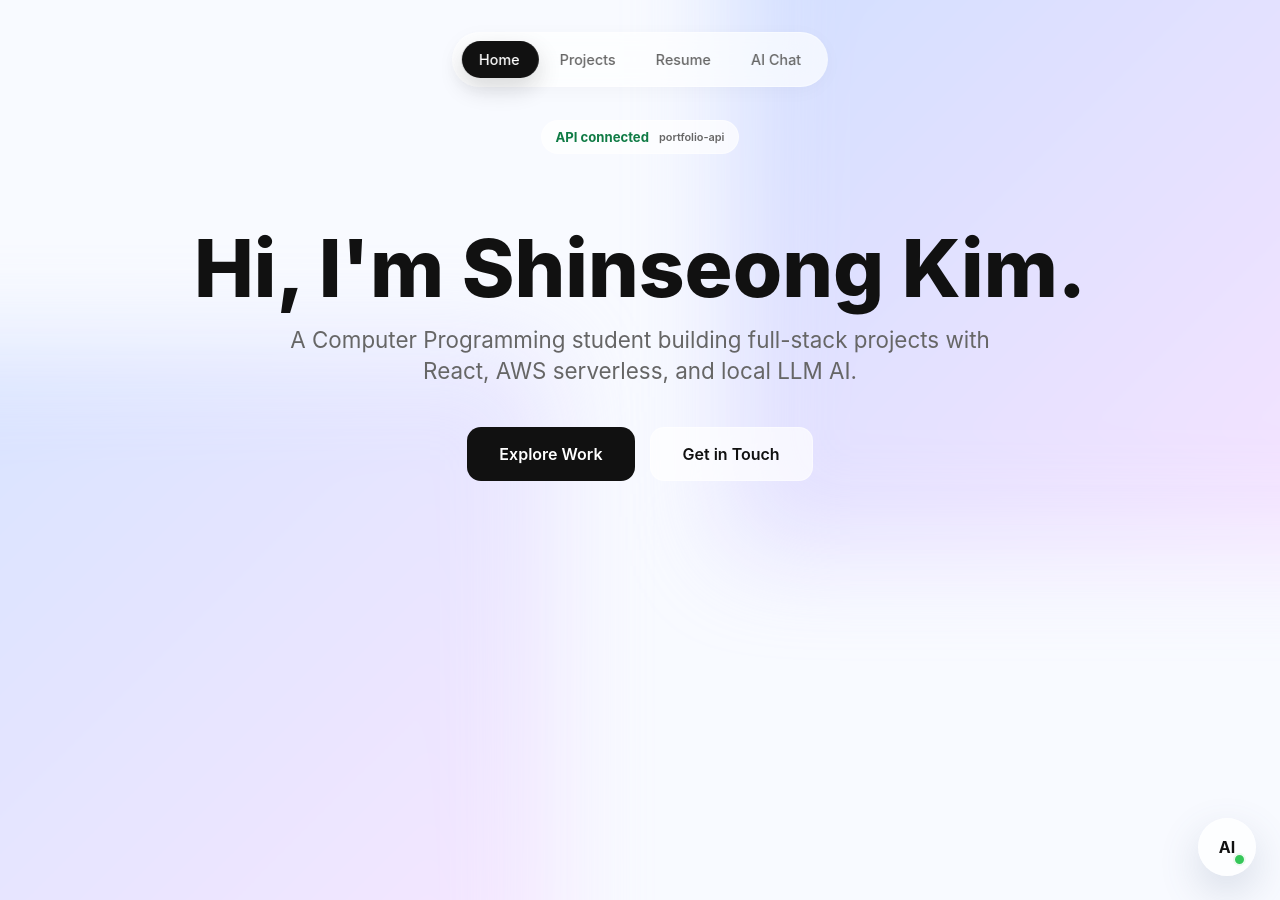
Test: App › minimizes the floating chat widget when opening the AI Chat tab
Click the button with aria-label "Open AI chat" at (1227, 847), box [1198,818,1256,876]
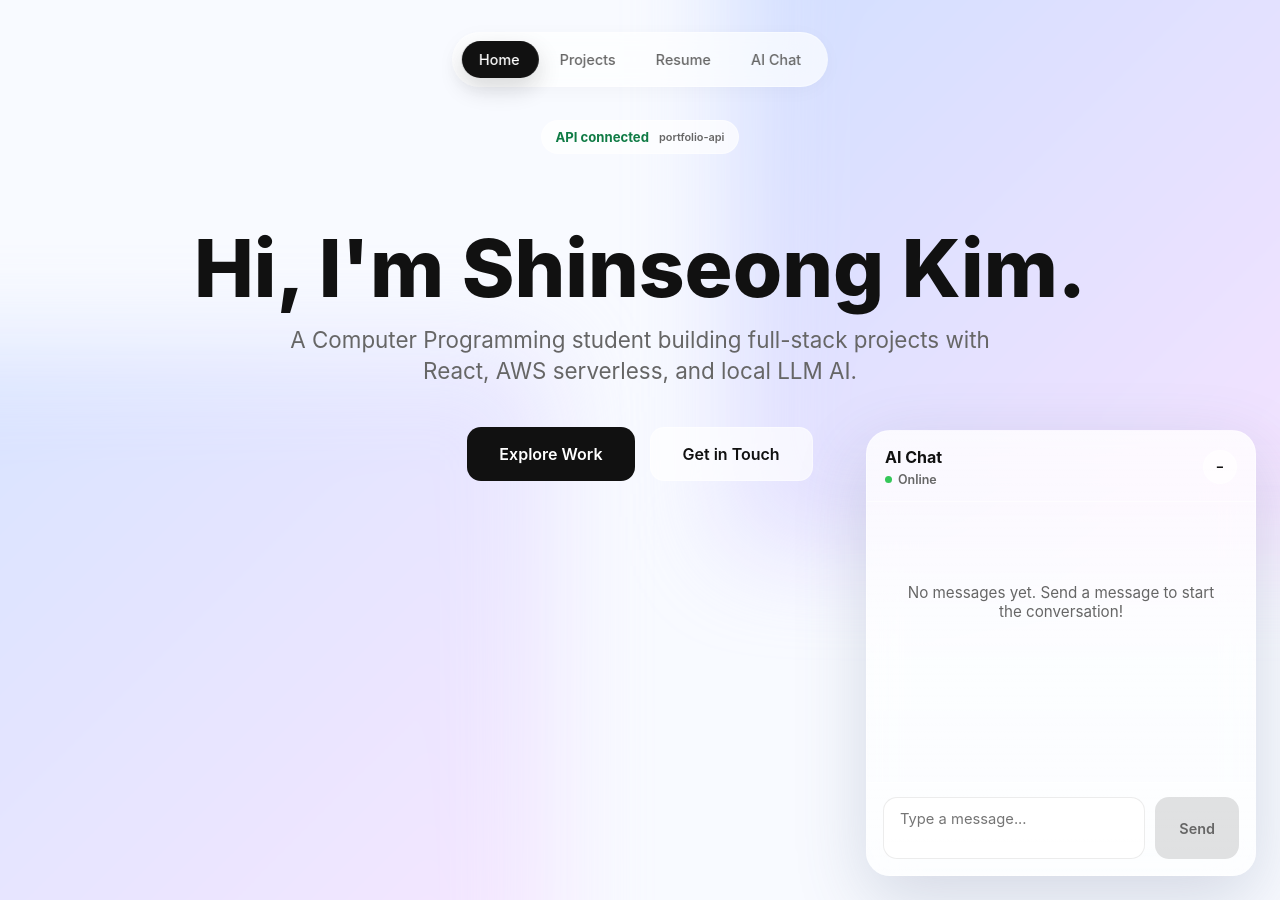
Now the element named "Floating AI chat" is shown, box [866,430,1256,876]
Click the button "AI Chat" at (776, 60), box [733,41,819,78]
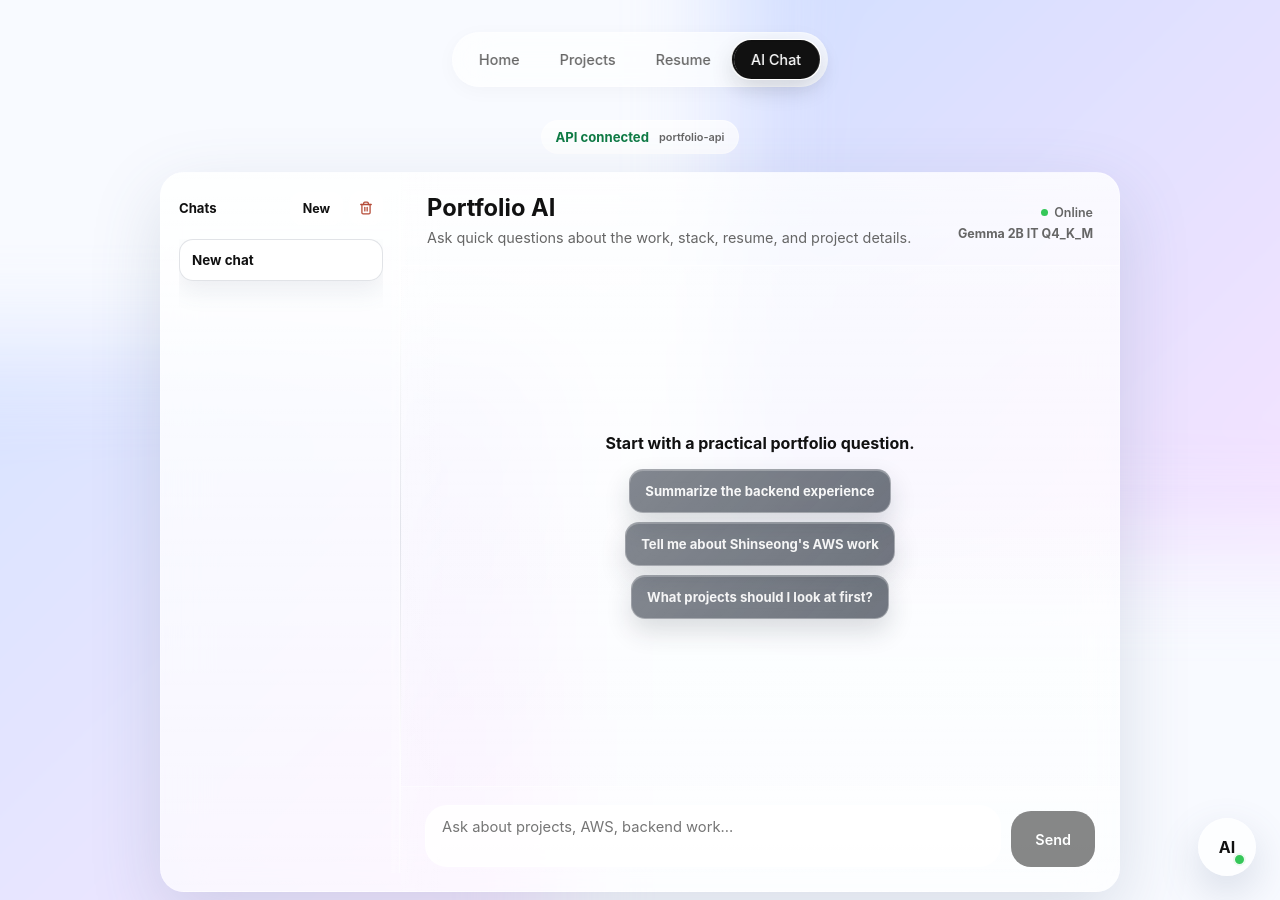
Now the button with aria-label "Open AI chat" is shown, box [1198,818,1256,876]
Now the heading "Portfolio AI" is shown, box [427,193,555,222]
